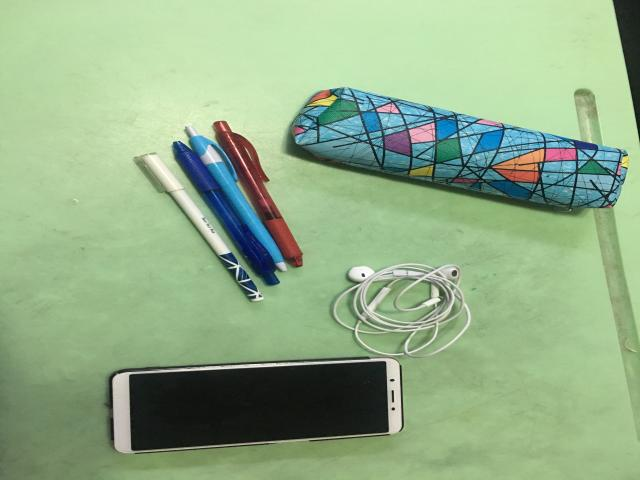Mobile phone: (106, 358, 406, 456)
Pen: (131, 133, 283, 300), (213, 121, 303, 267)
wire: (330, 264, 471, 359)
